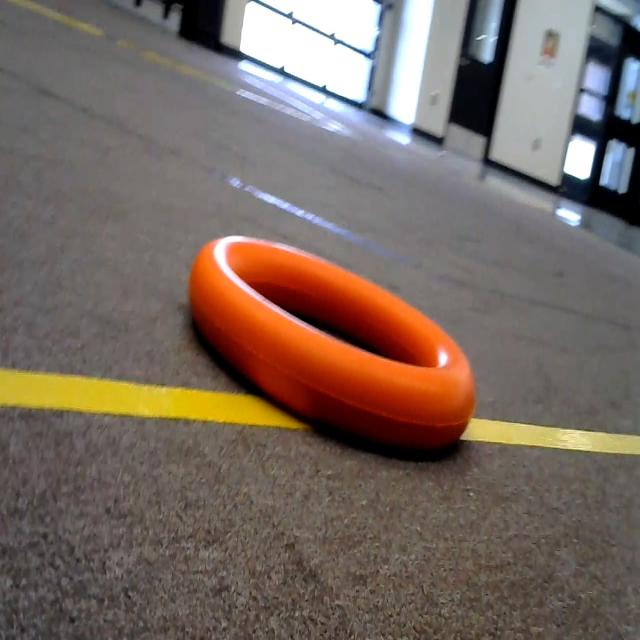note: (162, 191, 502, 485)
